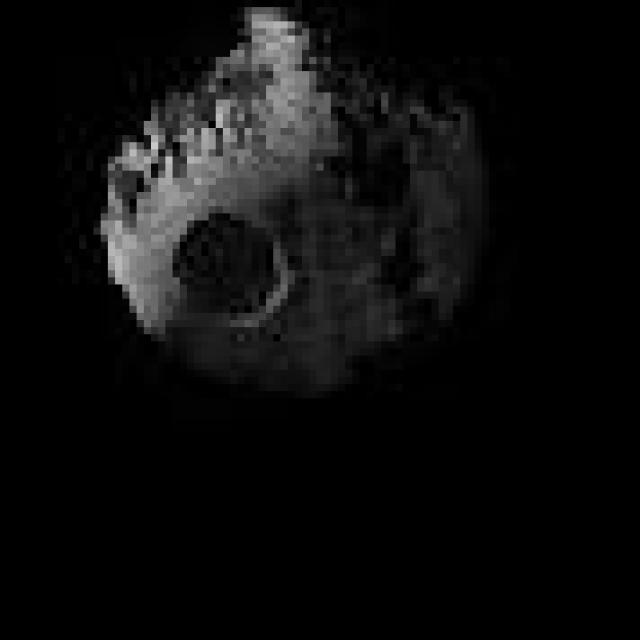Death Star: (79, 0, 496, 398)
